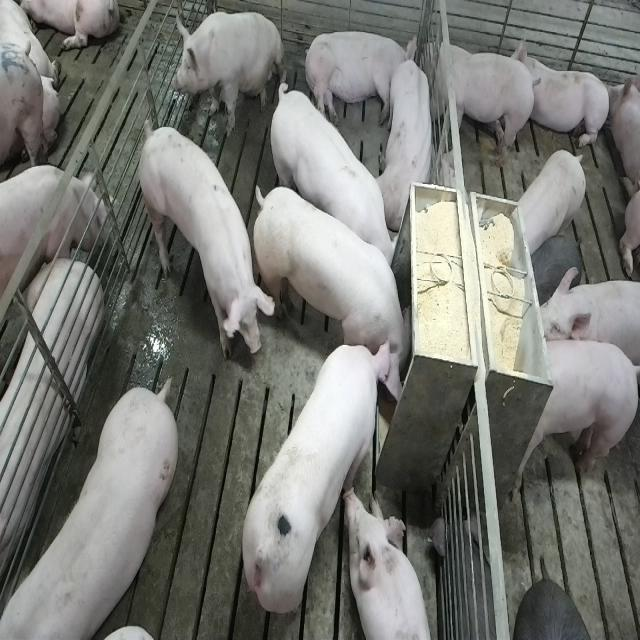Feeding: (240, 338, 399, 618), (255, 177, 421, 394)
Lateral_lying: (0, 252, 102, 606), (302, 26, 417, 127)
Sitting: (170, 8, 284, 137)
Standing: (0, 381, 175, 640), (135, 116, 271, 359), (265, 78, 397, 283), (516, 337, 638, 492), (421, 35, 538, 174), (0, 166, 106, 307), (532, 269, 637, 379), (514, 150, 588, 258)
Sternal_lying: (345, 487, 433, 640), (516, 35, 612, 154), (377, 55, 437, 231)
